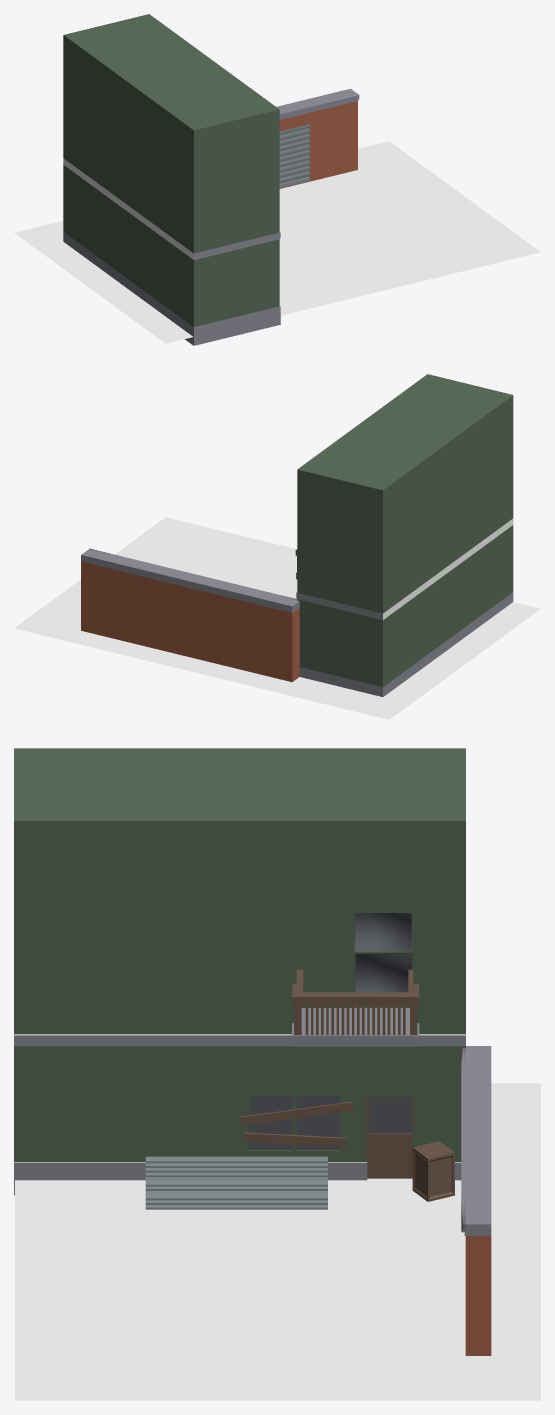
File: GameEngineAssetsColour.fbx
3 renders of one model, top to bottom at view 1: azimuth 30°, elevation 25°; view 2: azimuth 150°, elevation 25°; view 3: azimuth 270°, elevation 25°, orthographic. The views are drawn at different scales.
Parts seen in each view (by area): view 1: 2Storey, GroundPlane, Garage, GarageDoor; view 2: 2Storey, GroundPlane, Garage; view 3: 2Storey, GroundPlane, Garage, Railing, Box, MetalPlank.023, MetalPlank.036, MetalPlank.047, WoodPlank, MetalPlank.042, WoodPlank.001, MetalPlank.005 (+4 smaller).
Part boxes in pixels (box(x1,y1,x2,y2)): 2Storey: box(63, 14, 280, 345); GroundPlane: box(14, 141, 540, 343); Garage: box(276, 88, 359, 188); GarageDoor: box(279, 124, 309, 188); 2Storey: box(296, 374, 513, 696); GroundPlane: box(14, 517, 540, 719); Garage: box(81, 548, 299, 681); 2Storey: box(14, 748, 465, 1195); GroundPlane: box(15, 1083, 540, 1400); Garage: box(461, 1046, 491, 1355); Railing: box(292, 969, 418, 1034); Box: box(412, 1141, 454, 1201); MetalPlank.023: box(145, 1193, 327, 1200); MetalPlank.036: box(145, 1180, 327, 1186); MetalPlank.047: box(145, 1157, 327, 1163); WoodPlank: box(239, 1101, 353, 1125); MetalPlank.042: box(145, 1172, 327, 1177); WoodPlank.001: box(244, 1132, 346, 1146); MetalPlank.005: box(145, 1205, 327, 1209).
Size of the model in its own units: 5501 by 3020 by 3860.
